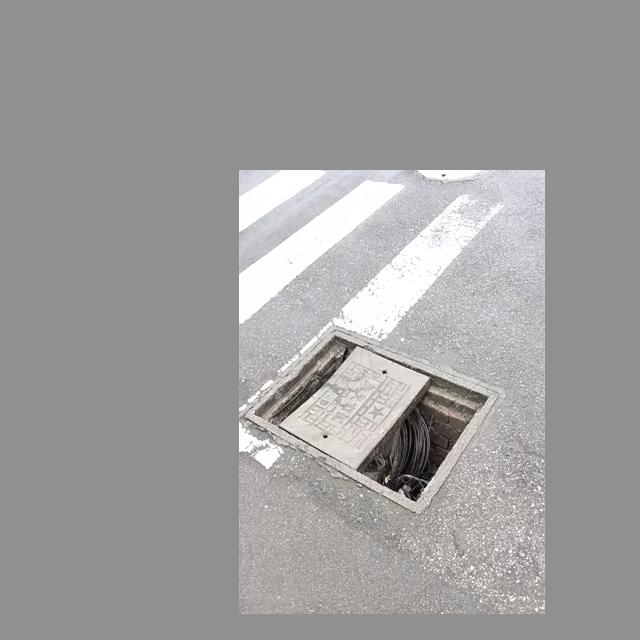lose: (243, 310, 502, 523)
